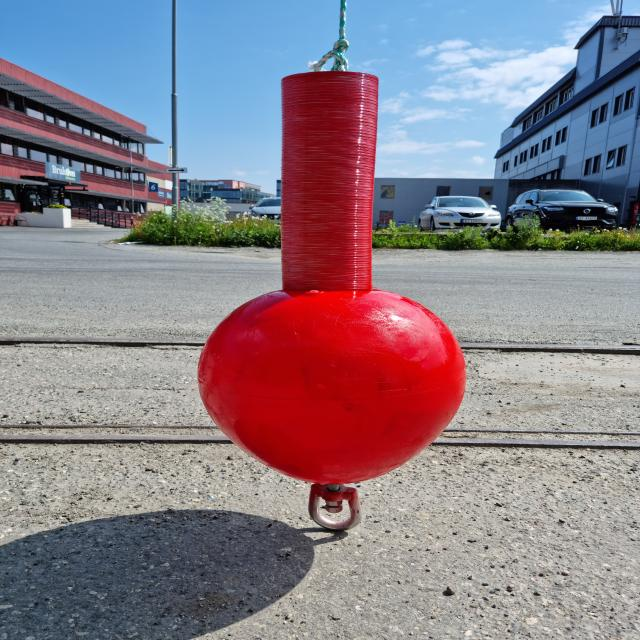red: (198, 73, 467, 484)
